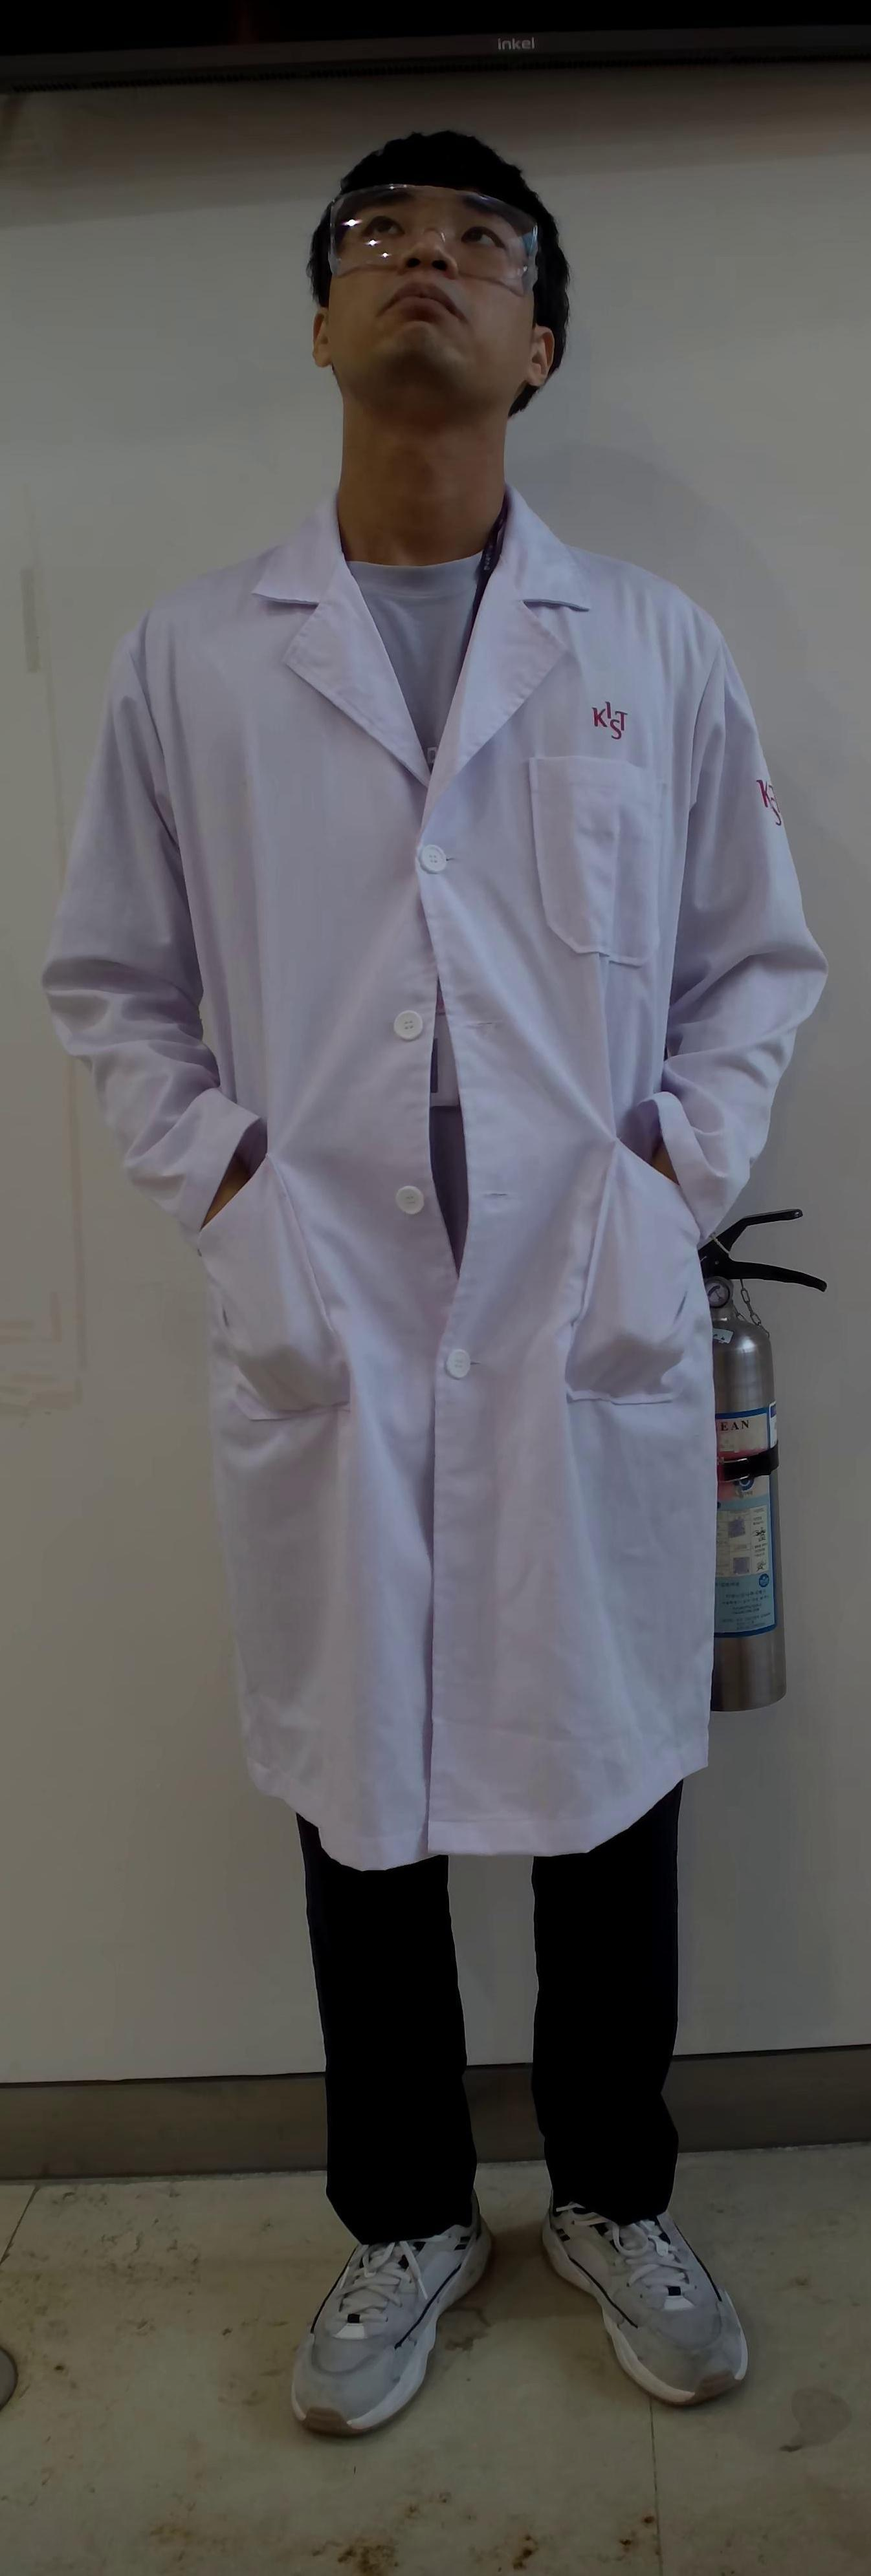lab_coat: (59, 570, 763, 1827)
